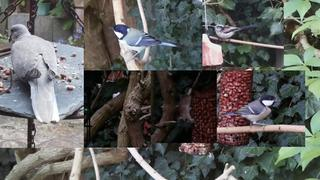collared dove: (8, 24, 60, 124)
great tit: (108, 24, 178, 64), (220, 94, 281, 131)
long tailed tit: (213, 24, 260, 42)
mouse: (177, 94, 193, 124)
